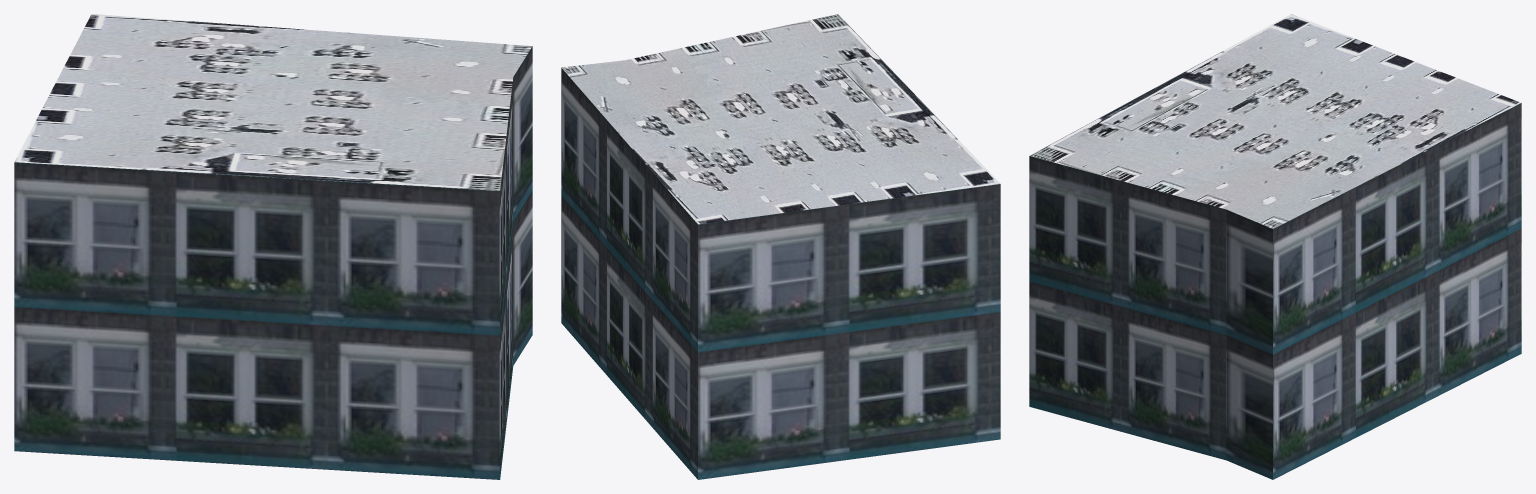
File: ResTex__4638.fbx
The picture shows the model from 3 angles, left to right: view 1: azimuth 30°, elevation 25°; view 2: azimuth 150°, elevation 25°; view 3: azimuth 270°, elevation 25°; orthographic projection. The views are drawn at different scales.
Visible parts, largest first — view 1: CityEngineMaterial_11_m, CityEngineMaterial_8_m; view 2: CityEngineMaterial_11_m, CityEngineMaterial_8_m; view 3: CityEngineMaterial_11_m, CityEngineMaterial_8_m.
Part boxes in pixels (bbox=[...]): CityEngineMaterial_11_m: bbox=[14, 46, 532, 479]; CityEngineMaterial_8_m: bbox=[14, 14, 532, 190]; CityEngineMaterial_11_m: bbox=[561, 68, 1000, 479]; CityEngineMaterial_8_m: bbox=[561, 14, 1000, 224]; CityEngineMaterial_11_m: bbox=[1029, 103, 1521, 479]; CityEngineMaterial_8_m: bbox=[1029, 14, 1521, 228].
Size of the model in its own units: 11.03 by 6 by 10.67.
Materials: 2 (2 with a texture image).
